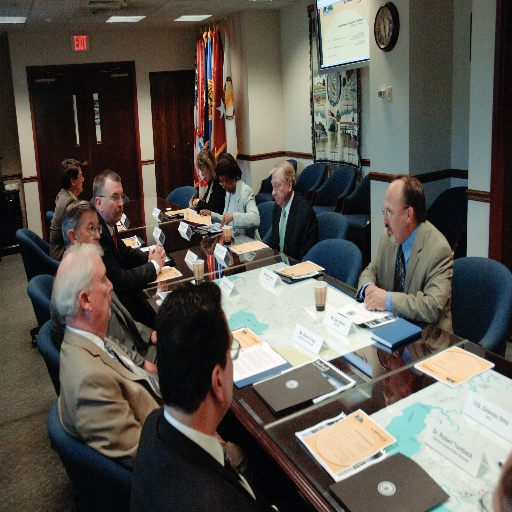hand: (363, 284, 387, 310), (148, 239, 168, 267), (151, 241, 167, 264), (218, 213, 233, 228), (142, 357, 156, 370), (214, 431, 225, 447), (149, 330, 156, 346), (199, 209, 210, 216), (189, 198, 198, 206)
